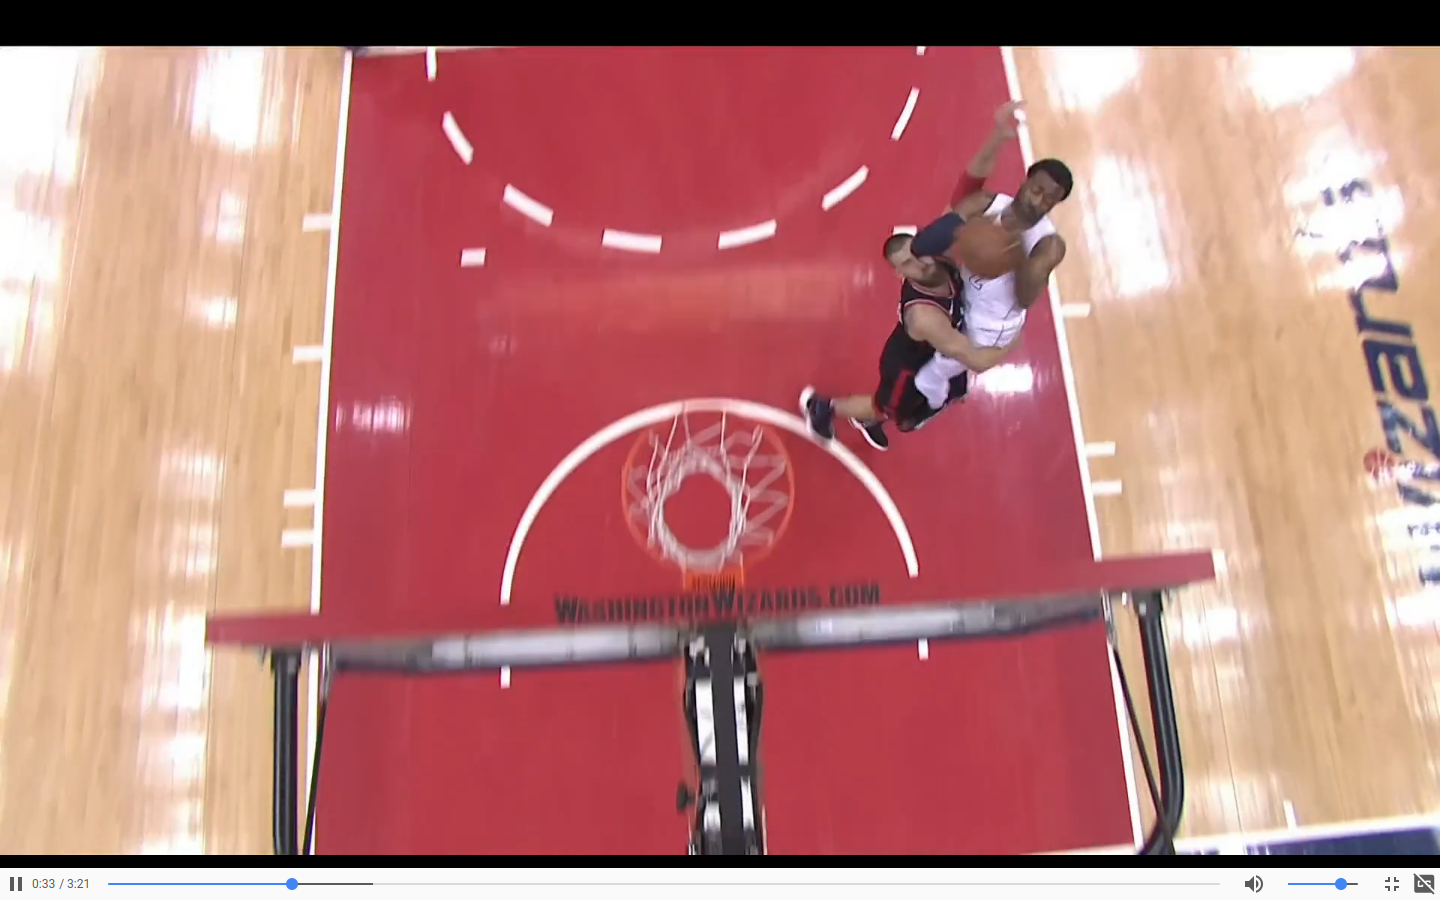basketball: (956, 214, 1025, 285)
basketball player: (802, 208, 961, 456), (955, 102, 1070, 428)
